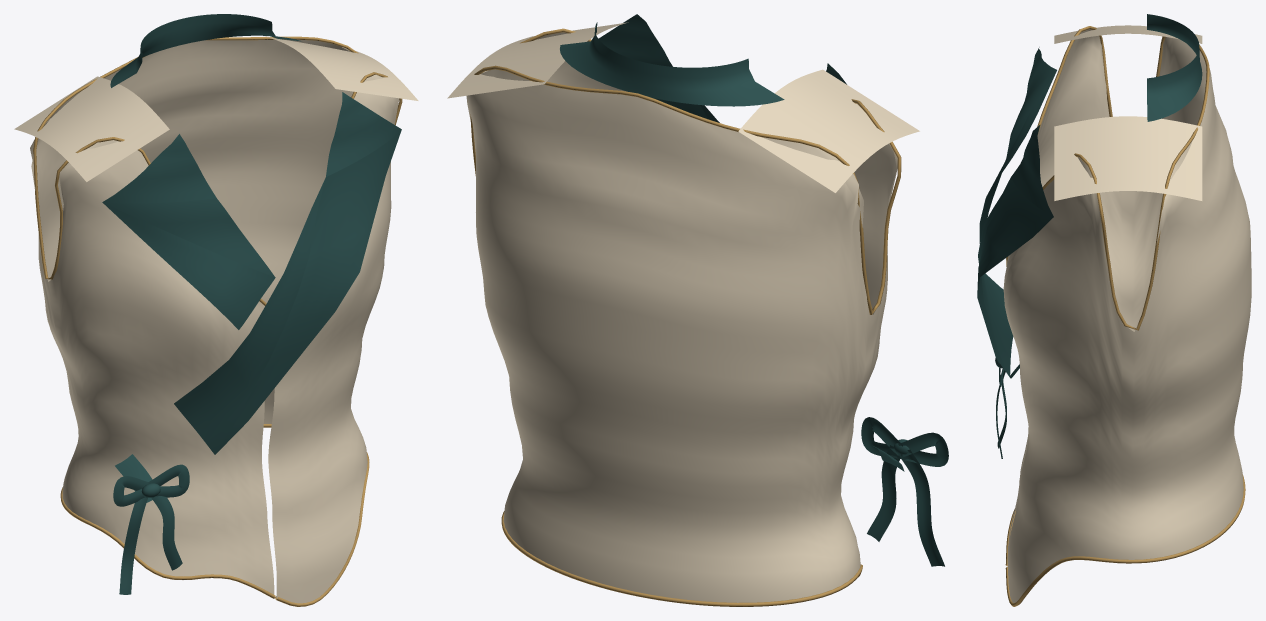
Rendered from nimcha.glb.
3 renders of one model, left to right at view 1: azimuth 30°, elevation 25°; view 2: azimuth 150°, elevation 25°; view 3: azimuth 270°, elevation 25°, orthographic. The views are drawn at different scales.
Visible parts, largest first — view 1: body.wrap-panels, collar.overlapping-lapel, collar.under-lapel, body.shoulder--1, collar.back-collar, body.shoulder-1, trim.bound-armholes, trim.bound-hem, belt.tie-tail-left, belt.tie-tail-right, belt.tie-right-loop, belt.tie-left-loop (+1 smaller); view 2: body.wrap-panels, body.shoulder--1, collar.back-collar, body.shoulder-1, trim.bound-armholes, collar.overlapping-lapel, trim.bound-hem, belt.tie-tail-left, belt.tie-tail-right, belt.tie-left-loop, belt.tie-right-loop; view 3: body.wrap-panels, body.shoulder-1, collar.overlapping-lapel, collar.back-collar, trim.bound-armholes, collar.under-lapel, trim.bound-hem, body.shoulder--1.
Part boxes in pixels (bbox=[...]): body.wrap-panels: bbox=[30, 39, 399, 603]; collar.overlapping-lapel: bbox=[174, 92, 401, 454]; collar.under-lapel: bbox=[102, 134, 275, 329]; body.shoulder--1: bbox=[14, 76, 169, 181]; collar.back-collar: bbox=[110, 14, 301, 87]; body.shoulder-1: bbox=[265, 36, 418, 100]; trim.bound-armholes: bbox=[33, 36, 402, 305]; trim.bound-hem: bbox=[60, 424, 369, 606]; belt.tie-tail-left: bbox=[119, 497, 147, 594]; belt.tie-tail-right: bbox=[151, 496, 182, 570]; belt.tie-right-loop: bbox=[148, 464, 189, 497]; belt.tie-left-loop: bbox=[113, 476, 148, 506]; body.wrap-panels: bbox=[466, 32, 897, 602]; body.shoulder--1: bbox=[738, 69, 919, 192]; collar.back-collar: bbox=[560, 22, 784, 106]; body.shoulder-1: bbox=[447, 22, 628, 98]; trim.bound-armholes: bbox=[470, 28, 901, 314]; collar.overlapping-lapel: bbox=[598, 14, 719, 122]; trim.bound-hem: bbox=[501, 511, 862, 606]; belt.tie-tail-left: bbox=[898, 449, 944, 566]; belt.tie-tail-right: bbox=[867, 445, 901, 541]; belt.tie-left-loop: bbox=[898, 432, 948, 466]; belt.tie-right-loop: bbox=[861, 417, 902, 458]; body.wrap-panels: bbox=[1003, 29, 1251, 602]; body.shoulder-1: bbox=[1054, 116, 1202, 200]; collar.overlapping-lapel: bbox=[977, 125, 1053, 377]; collar.back-collar: bbox=[1147, 14, 1202, 121]; trim.bound-armholes: bbox=[1006, 26, 1209, 330]; collar.under-lapel: bbox=[979, 47, 1056, 243]; trim.bound-hem: bbox=[1005, 474, 1245, 606]; body.shoulder--1: bbox=[1054, 25, 1202, 43].
Bounding box in the file's own units: 0.5025 × 0.7304 × 0.3376.
